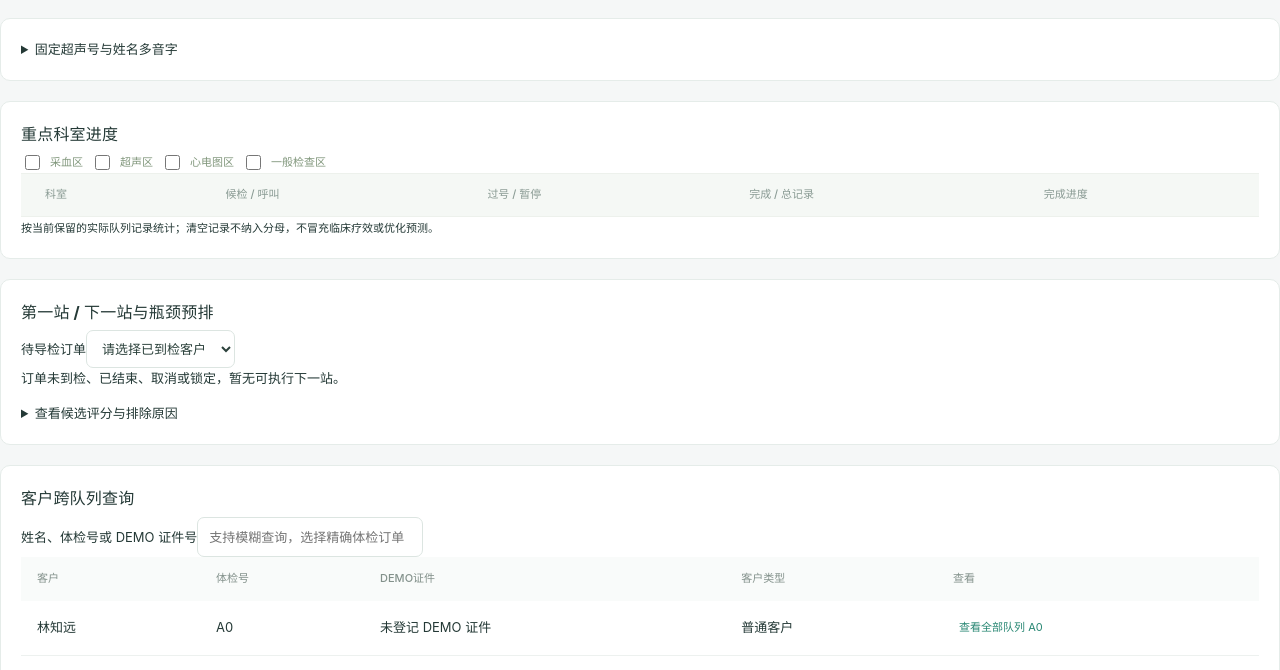
it: Completion controls are live shared-state UI › recommendation button creates ticket and customer query clears stale detail when query changes
The width and height of the screenshot is (1280, 670).
(page scrolled)
Select "林知远 · A0" in the dropdown labelled "待导检订单" at (160, 349), box [86, 330, 235, 368]
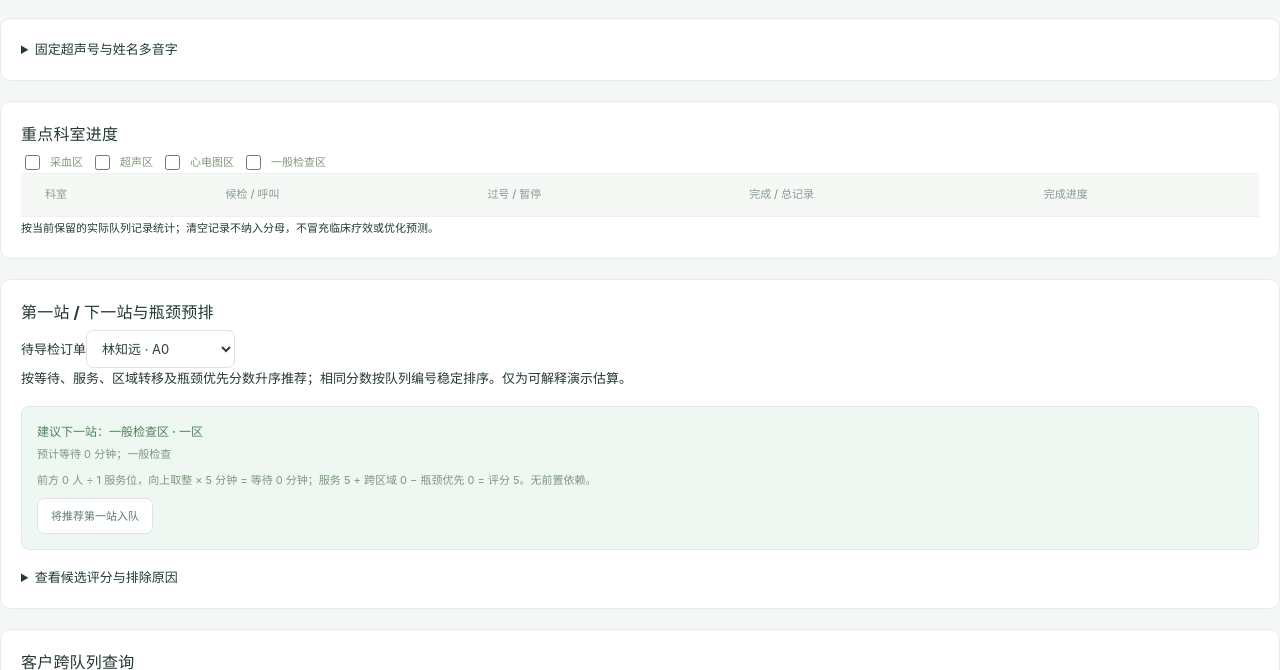
Click the button "将推荐第一站入队" at (95, 516), box [37, 498, 153, 534]
(page scrolled)
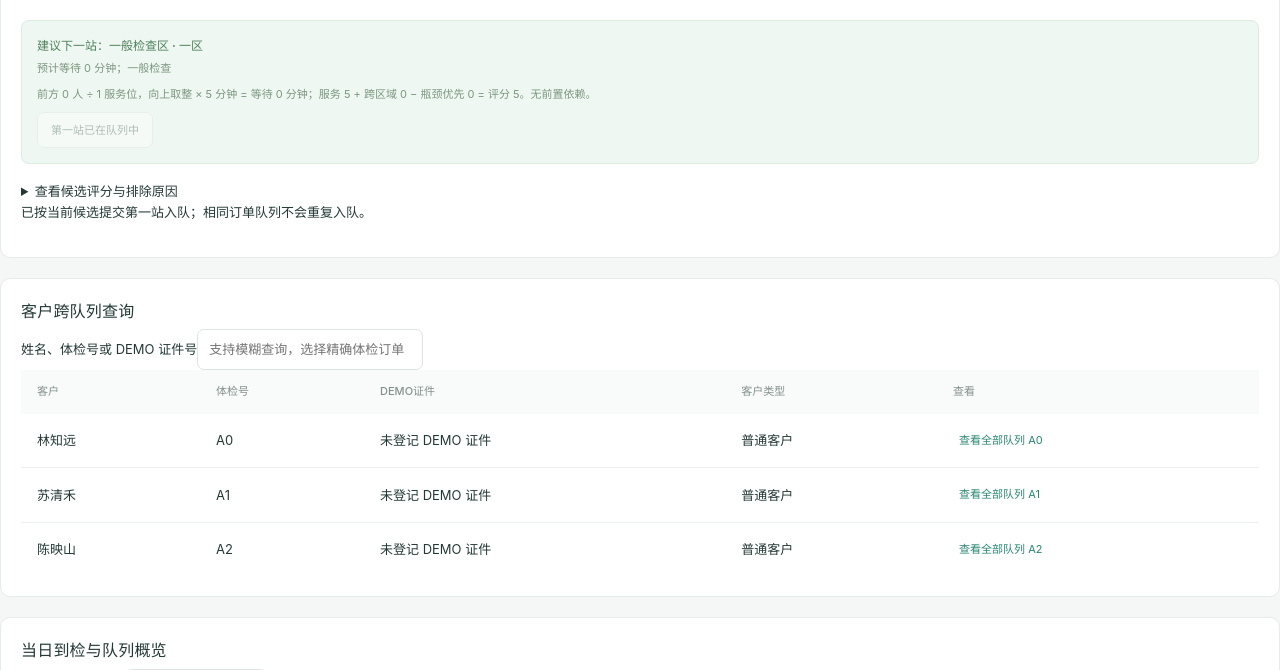
Type "A0" into the field named "队列客户搜索" at (310, 350), box [197, 329, 423, 370]
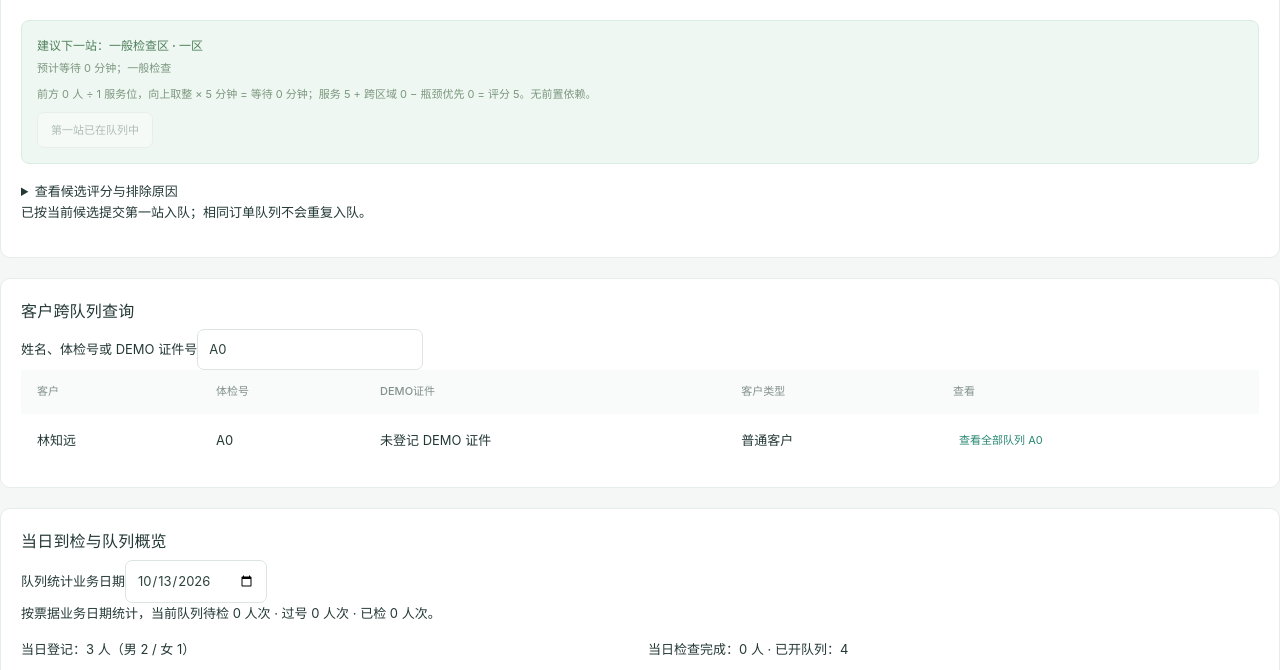
Click the button "查看全部队列 A0" at (1001, 440), box [953, 429, 1049, 452]
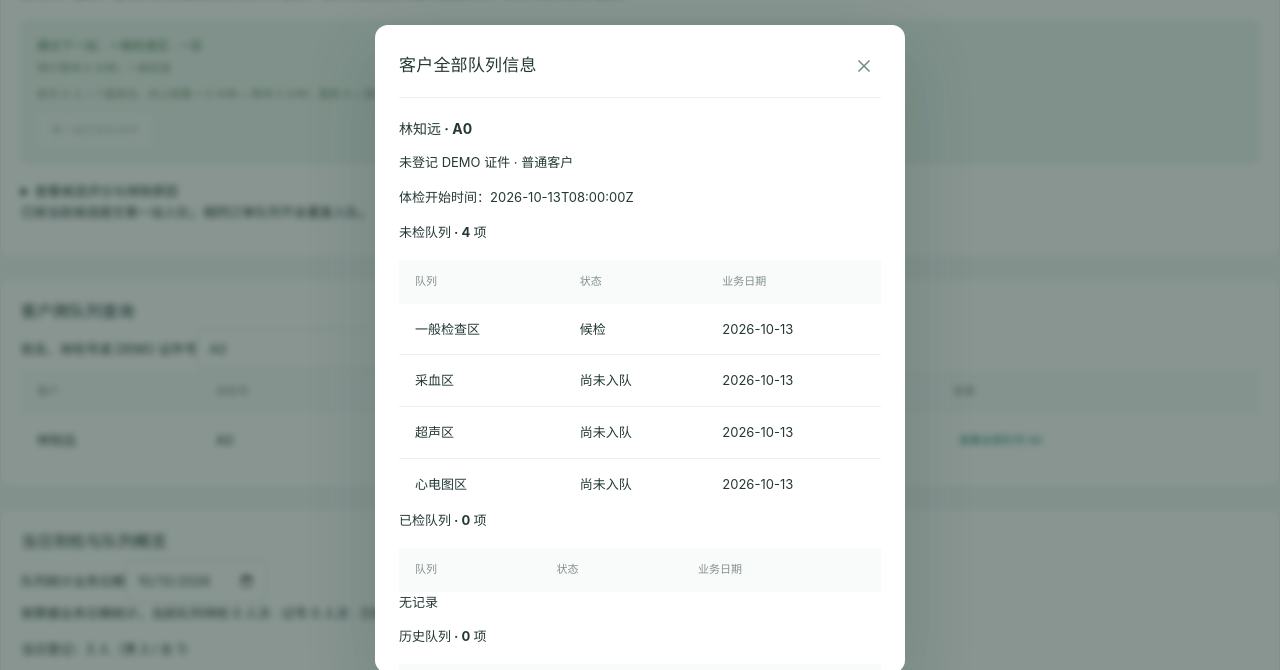
Result: the dialog "客户全部队列信息" shows "A0" at [452, 120, 472, 137]
Click the button named "关闭" at (864, 66), box [847, 49, 881, 83]
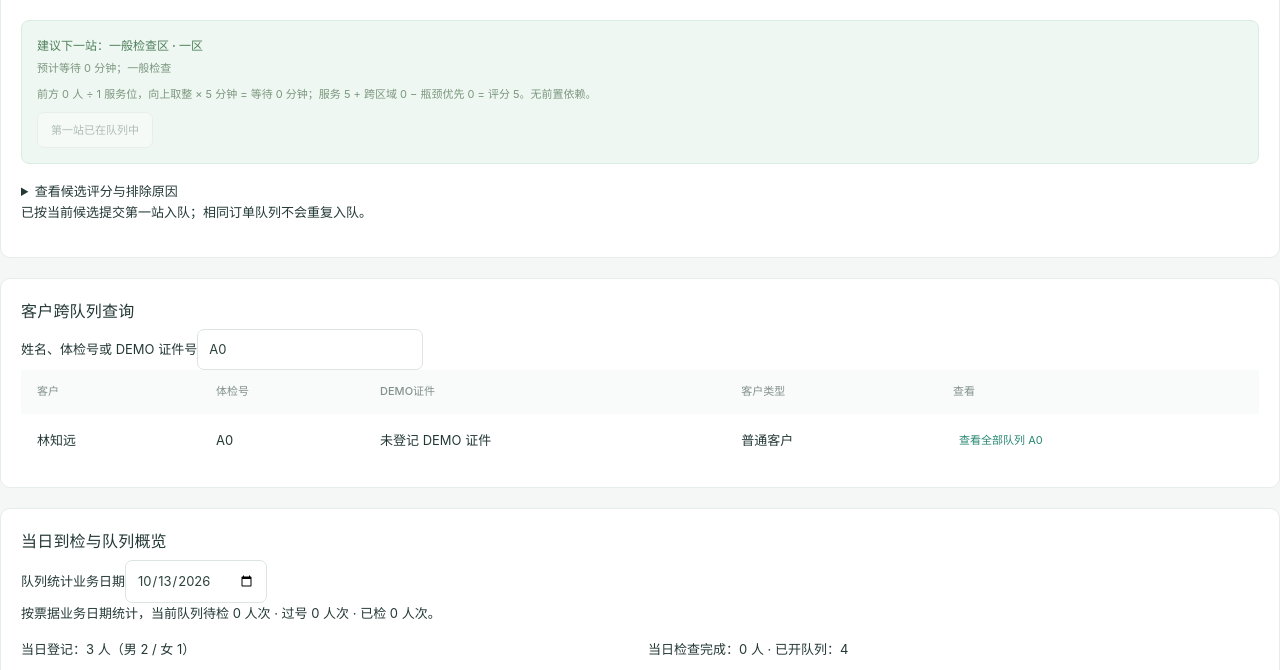
Replace the text in the field named "队列客户搜索" with "不存在" at (310, 350), box [197, 329, 423, 370]
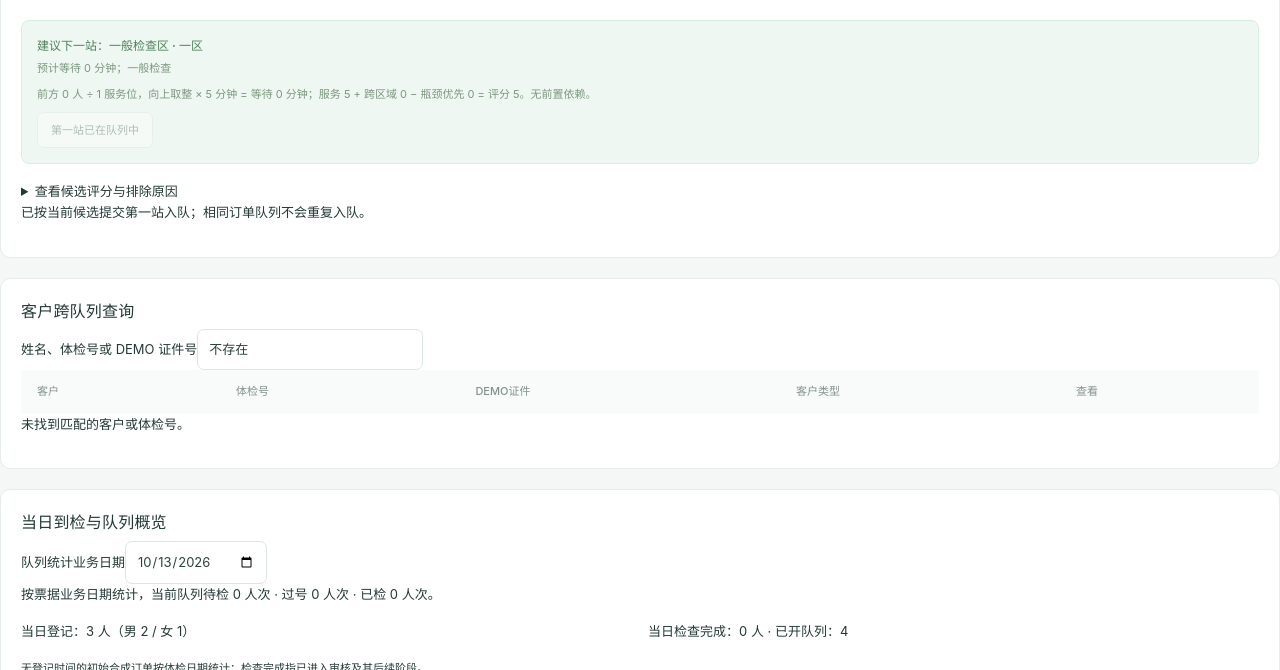
Result: the button "查看全部队列 A0" is gone
Result: the text "未找到匹配的客户或体检号。" is shown at [21, 416, 190, 432]
